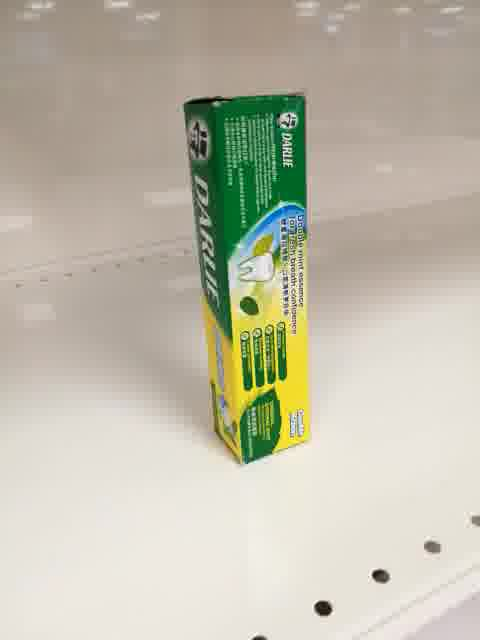toothpaste: (184, 93, 310, 466)
